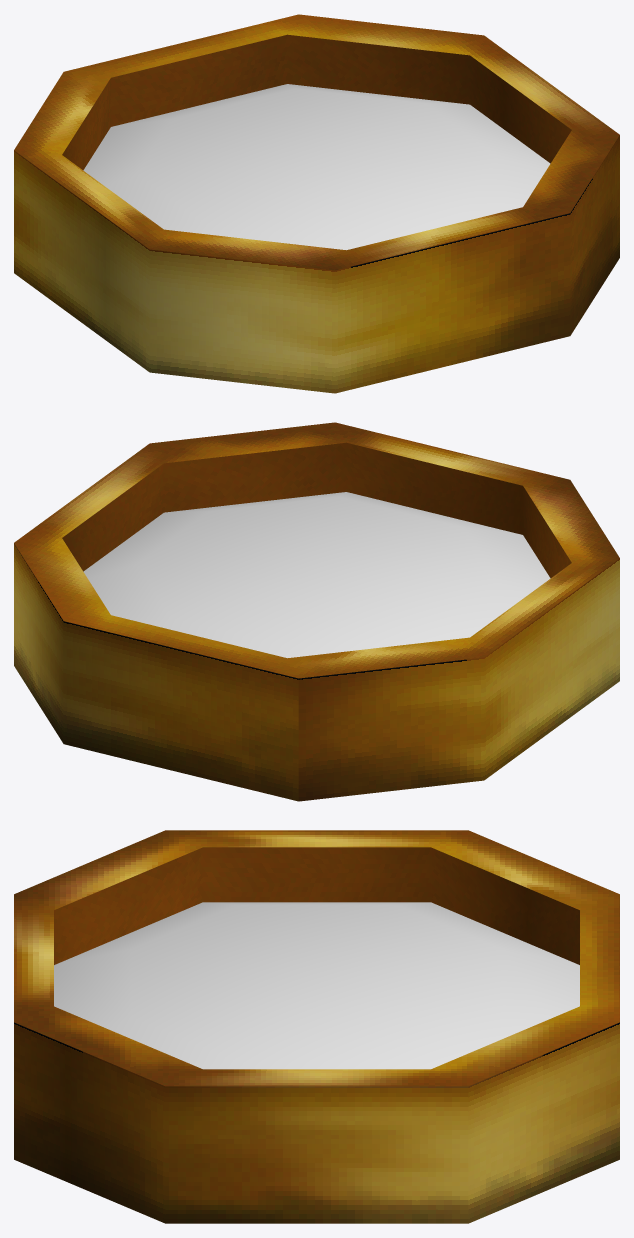
File: mirror.glb
The picture shows the model from 3 angles, top to bottom: view 1: azimuth 30°, elevation 25°; view 2: azimuth 150°, elevation 25°; view 3: azimuth 270°, elevation 25°; orthographic projection. The views are drawn at different scales.
Parts seen in each view (by area): view 1: mirror; view 2: mirror; view 3: mirror.
Part boxes in pixels (box(x1,y1,x2,y2)): mirror: box(14, 14, 619, 393); mirror: box(14, 422, 619, 801); mirror: box(14, 830, 619, 1223).
Size of the model in its own units: 0.2 by 0.05 by 0.2.
2 materials, 1 textured.
